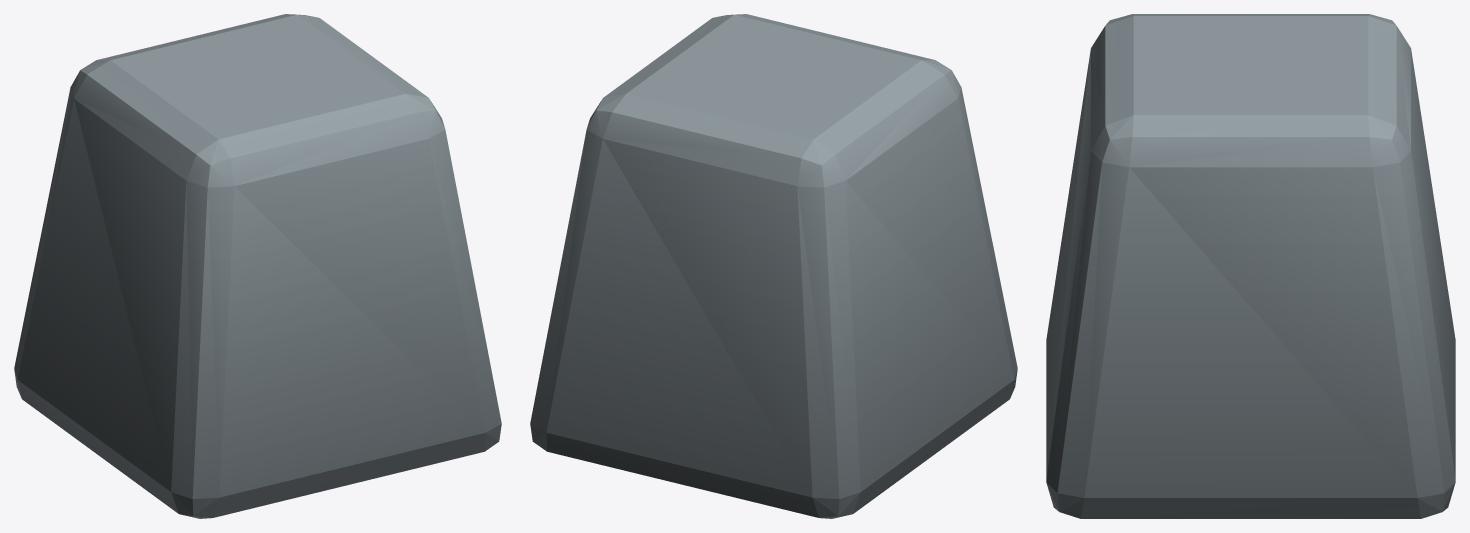
Rendered from kf_rock_2_c.fbx.
3 renders of one model, left to right at view 1: azimuth 30°, elevation 25°; view 2: azimuth 150°, elevation 25°; view 3: azimuth 270°, elevation 25°, orthographic. The views are drawn at different scales.
Visible parts, largest first — view 1: kf_rock_2_c; view 2: kf_rock_2_c; view 3: kf_rock_2_c.
Boxes of the visible parts, x1,y1,x2,y2 form: kf_rock_2_c: (14, 14, 501, 518); kf_rock_2_c: (530, 14, 1017, 518); kf_rock_2_c: (1046, 14, 1455, 518).
Bounding box in the file's own units: 3.11 × 3.18 × 3.11.
Materials: 1 (1 with a texture image).
